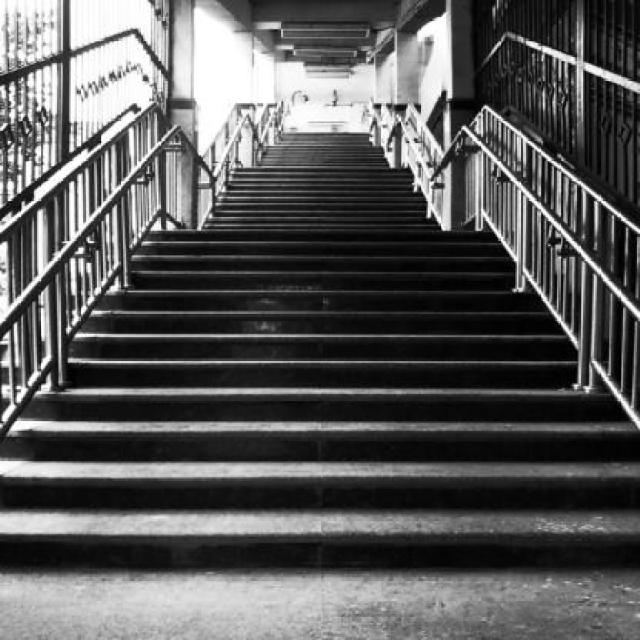stair: (0, 129, 640, 560)
